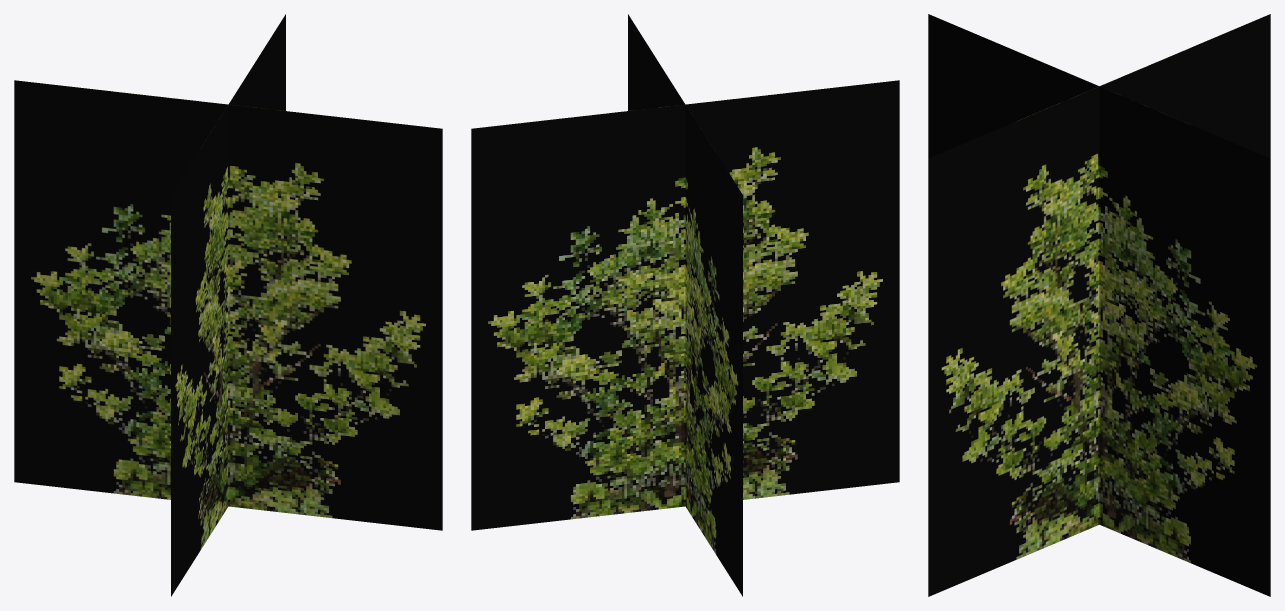
Rendered from pixel_bush2_lowpoly.fbx.
3 renders of one model, left to right at view 1: azimuth 30°, elevation 25°; view 2: azimuth 150°, elevation 25°; view 3: azimuth 270°, elevation 25°, orthographic. The views are drawn at different scales.
Parts seen in each view (by area): view 1: psx_bush2_lowpoly2, psx_bush2_lowpoly; view 2: psx_bush2_lowpoly, psx_bush2_lowpoly2; view 3: psx_bush2_lowpoly2, psx_bush2_lowpoly.
Part boxes in pixels (x1,y1,x2,y2): psx_bush2_lowpoly2: (14,14,442,596); psx_bush2_lowpoly: (14,17,442,593); psx_bush2_lowpoly: (471,29,899,594); psx_bush2_lowpoly2: (628,14,742,596); psx_bush2_lowpoly2: (928,14,1270,596); psx_bush2_lowpoly: (928,15,1270,596).
Size of the model in its own units: 141 by 200 by 141.
